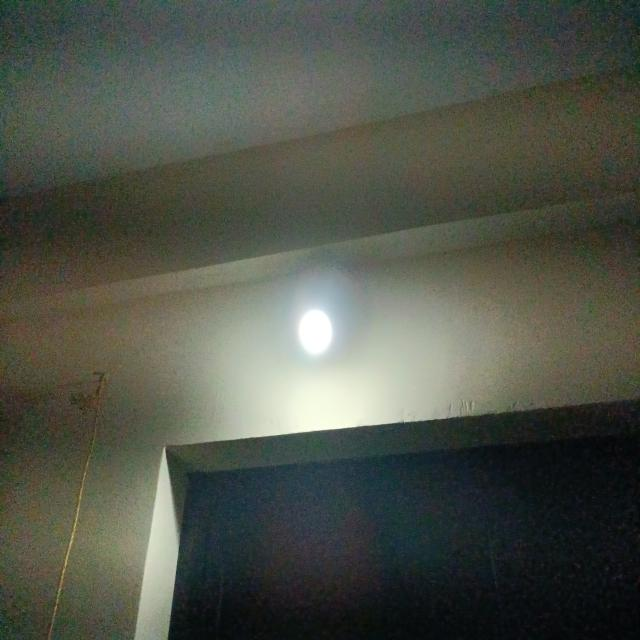bulb_on: (296, 306, 334, 357)
